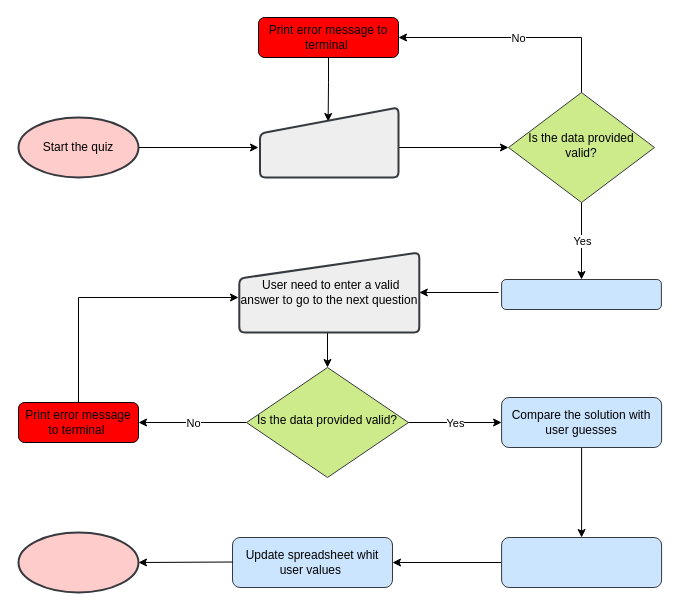
This 679x611 diagram has some shape labels left out. Here are the shapes that lost their labels. From the top down, the centre of each, then its label:
point (328, 142): Request user name
point (581, 294): Init the quiz asking questions
point (78, 562): End or restart
point (581, 562): Display users score
